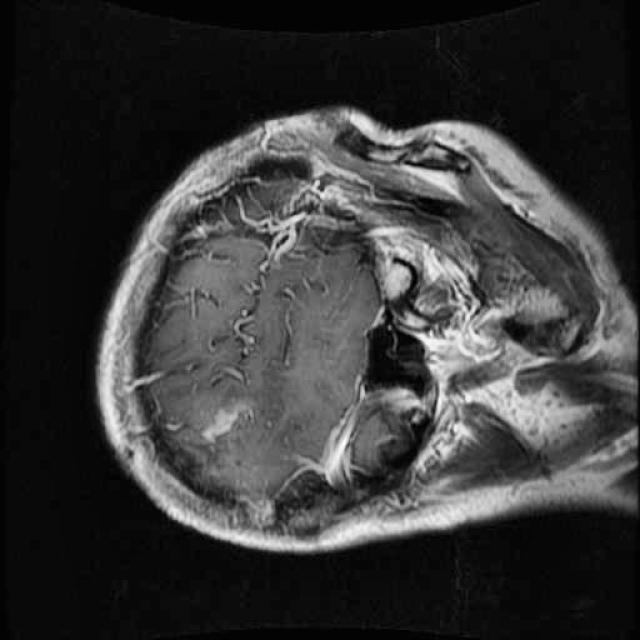Tumor: (191, 388, 270, 452)
